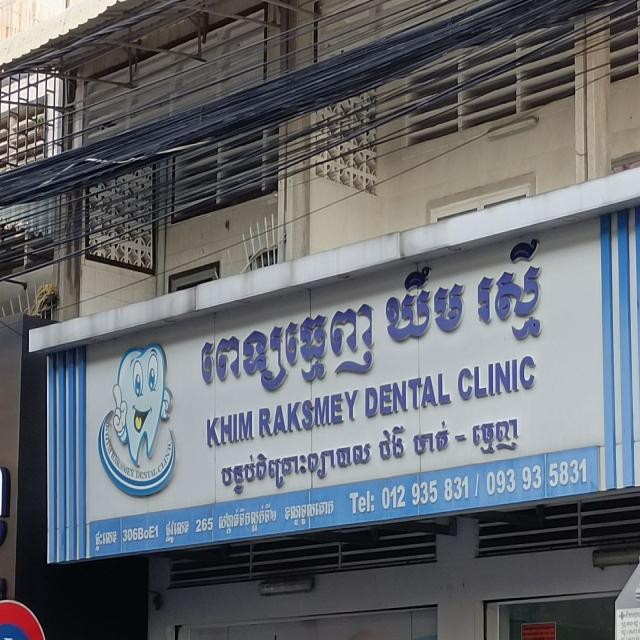1: (216, 493, 334, 539)
2: (195, 229, 551, 409), (218, 402, 521, 500)
284: (378, 451, 590, 519)
Yolov11_80vkh: (161, 513, 192, 547), (92, 524, 122, 556)
